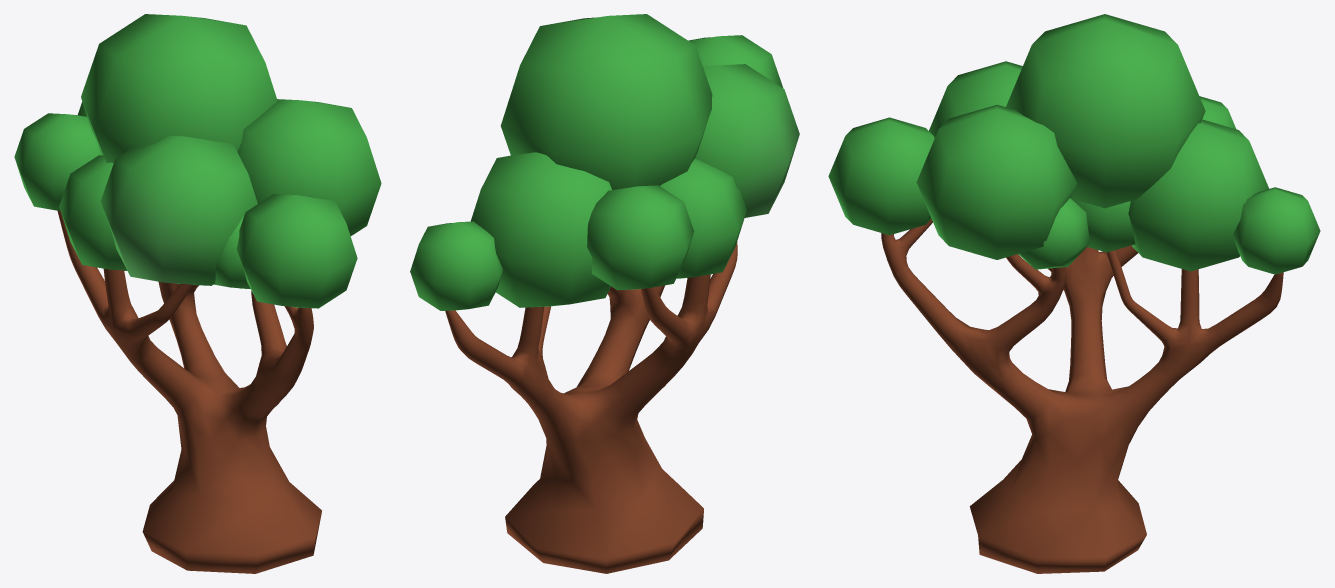
The model's file is Tree1.fbx.
The picture shows the model from 3 angles, left to right: view 1: azimuth 30°, elevation 25°; view 2: azimuth 150°, elevation 25°; view 3: azimuth 270°, elevation 25°; orthographic projection. The views are drawn at different scales.
Visible parts, largest first — view 1: tree2_1; view 2: tree2_1; view 3: tree2_1.
Boxes of the visible parts, bbox=[...] form: tree2_1: bbox=[14, 14, 381, 573]; tree2_1: bbox=[410, 14, 799, 573]; tree2_1: bbox=[828, 14, 1320, 573].
Size of the model in its own units: 676 by 1317 by 1143.
